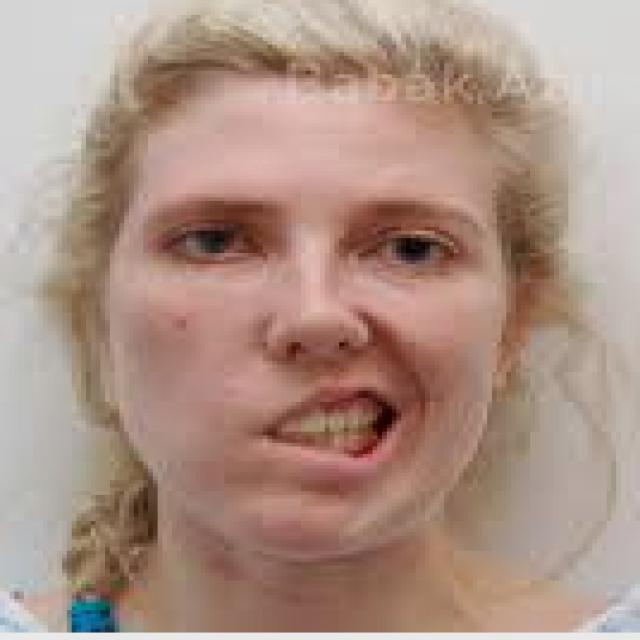stroke_face: (125, 45, 504, 557)
